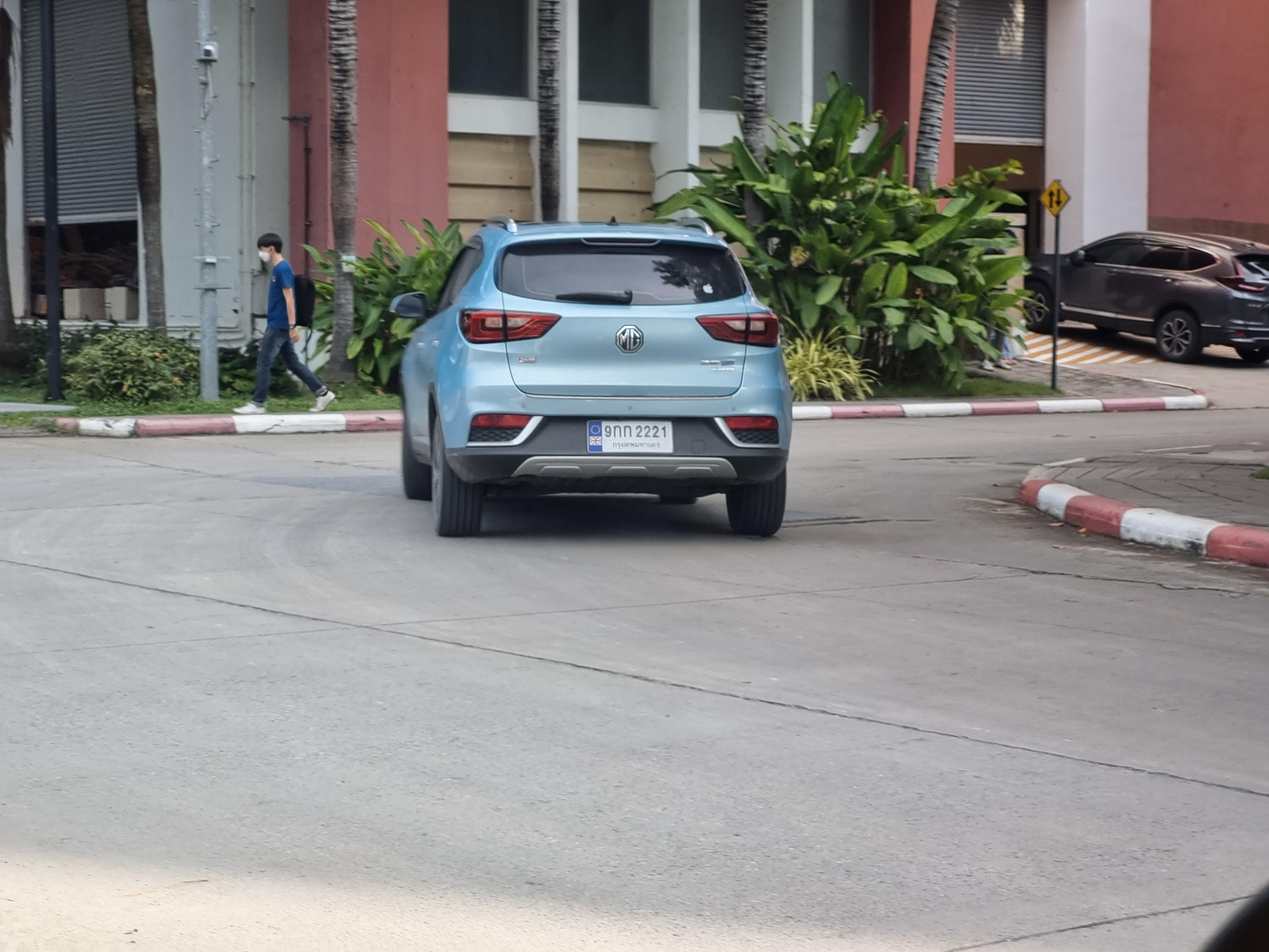license-plate: (583, 416, 678, 457)
